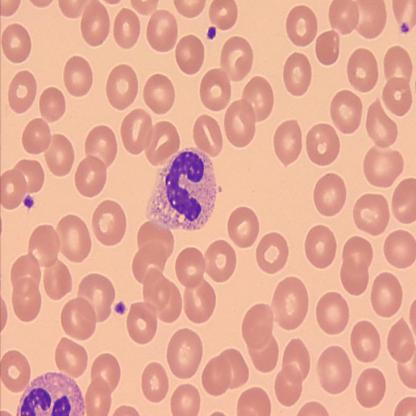Band Neutrophil: (143, 142, 218, 234)
